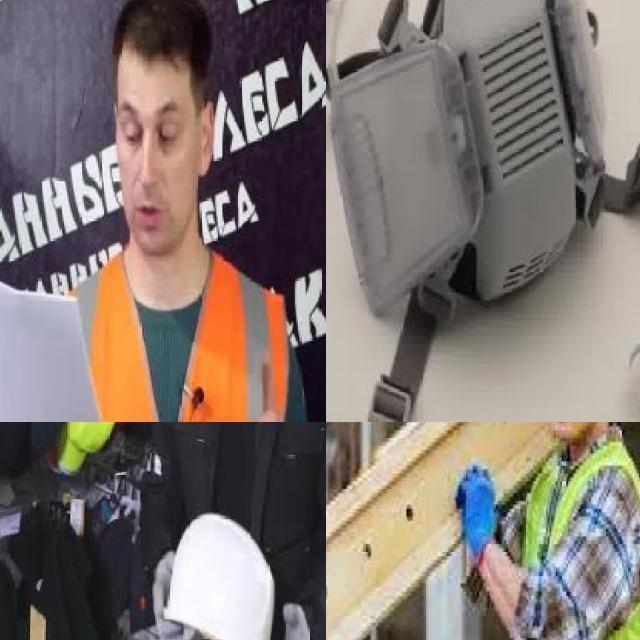apron: (449, 455, 498, 572), (151, 550, 202, 640), (266, 596, 308, 640)
